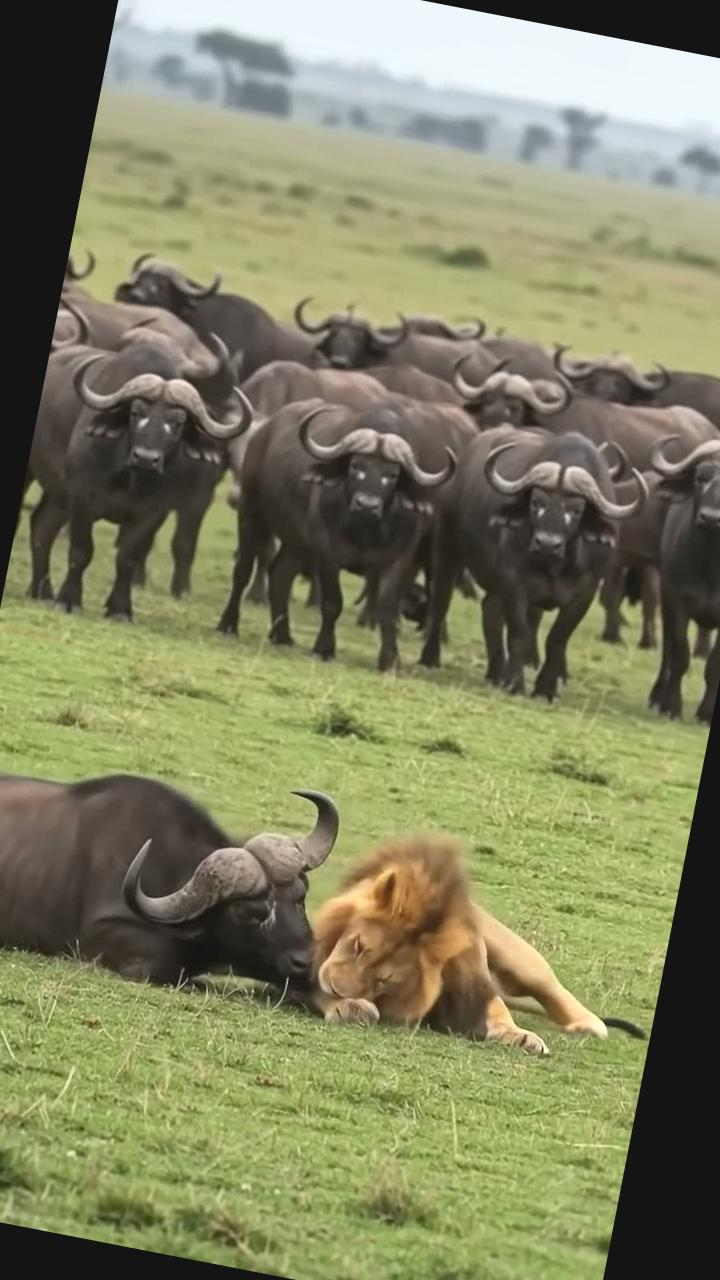Buffalo: (0, 225, 720, 751), (0, 702, 362, 1063)
lions: (298, 809, 638, 1130)
